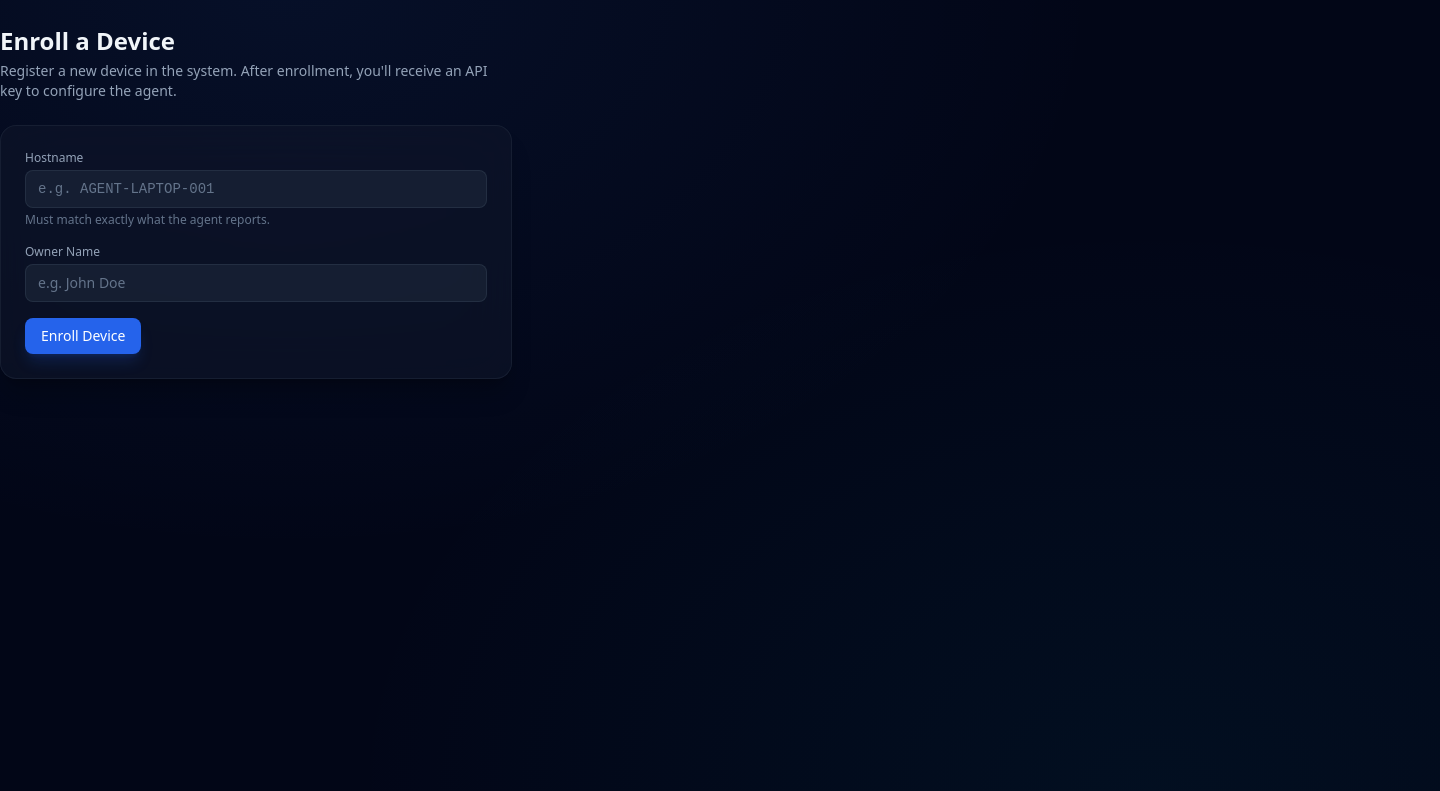
Test: EnrollPage › Enrollment success view › shows one-click installer button (non-serverless)
Type "TEST-LAPTOP-001" into the field with placeholder "e.g. AGENT-LAPTOP-001" at (256, 189), box left=25, top=170, right=487, bottom=208
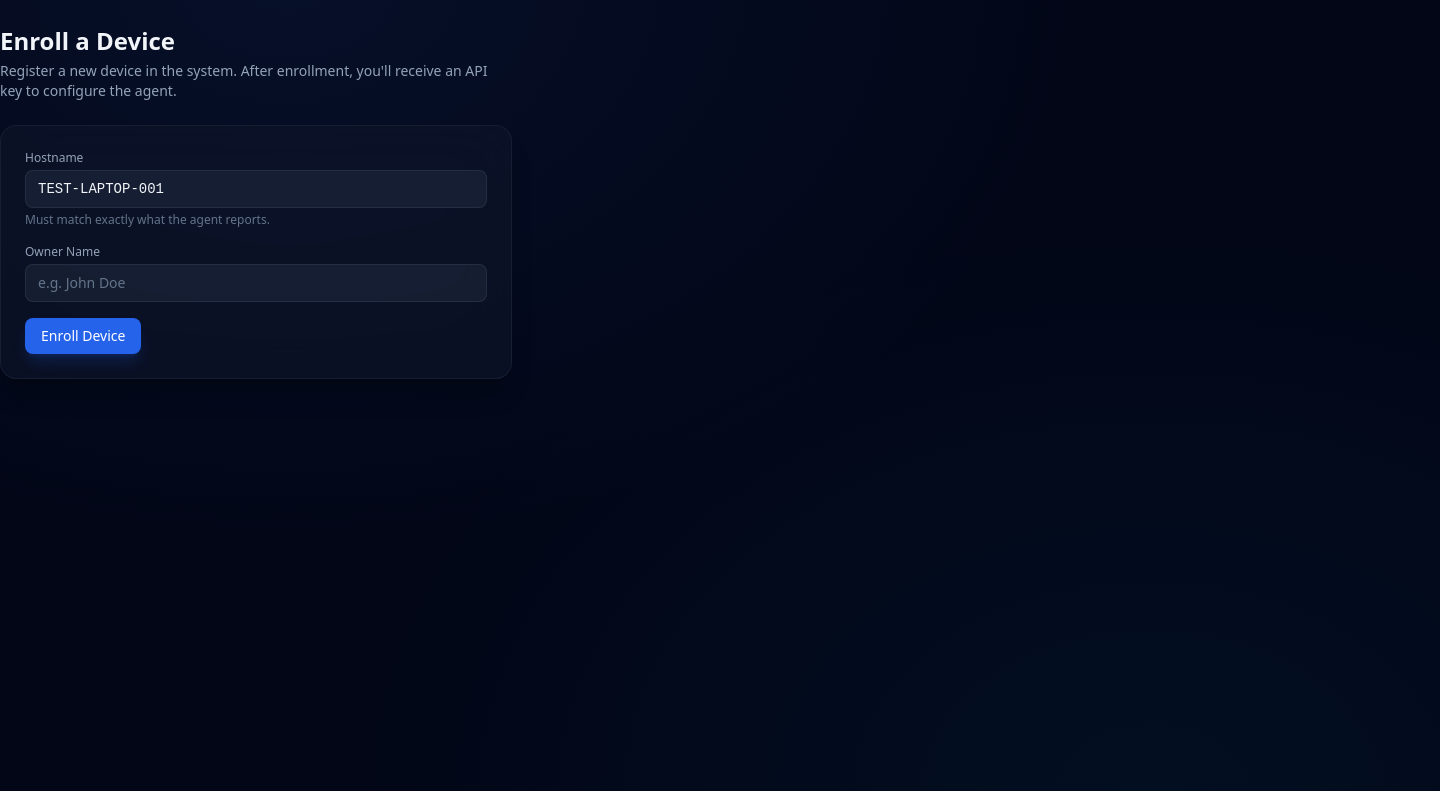
Type "Test Owner" into the field with placeholder "e.g. John Doe" at (256, 283), box left=25, top=264, right=487, bottom=302
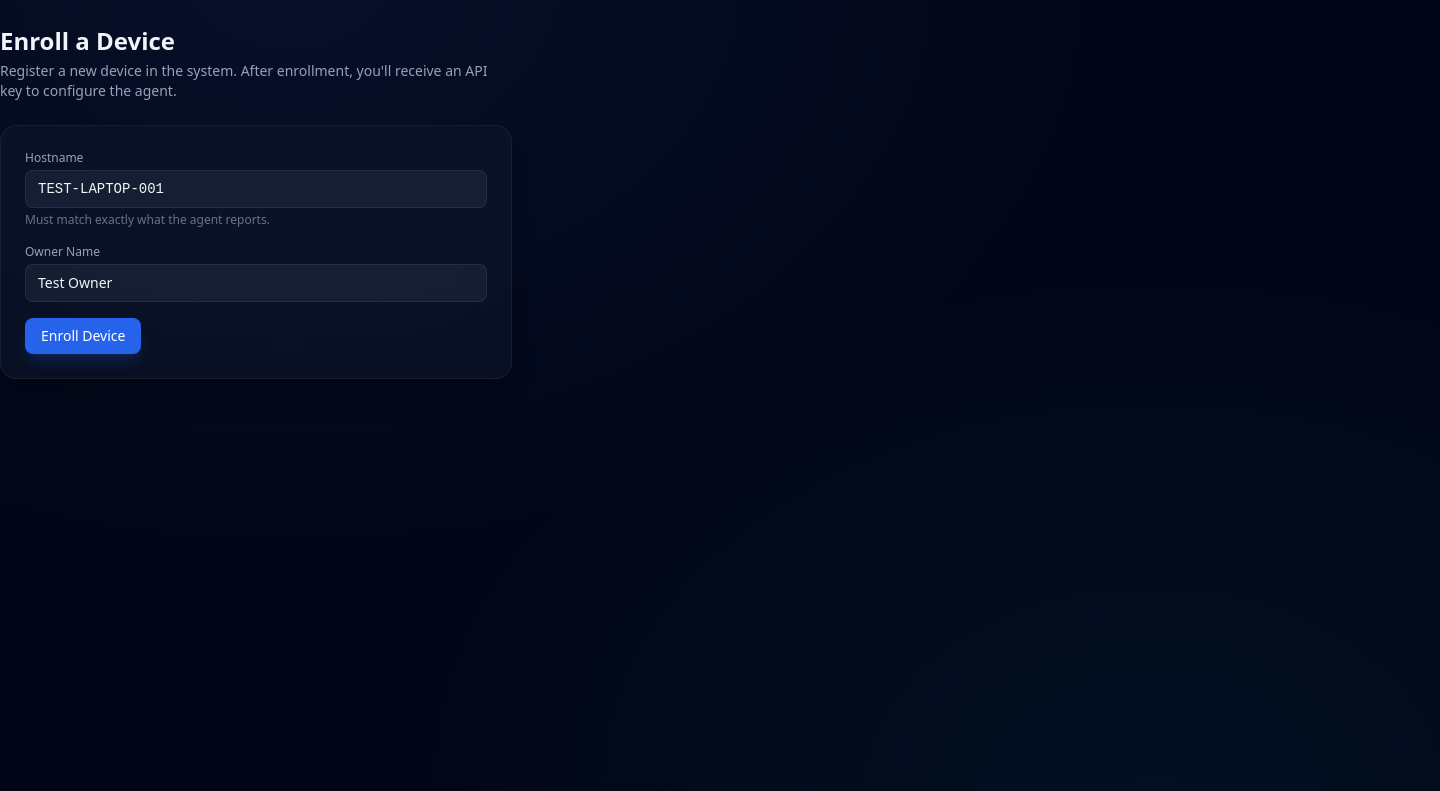
Click the button "Enroll Device" at (83, 336), box left=25, top=318, right=142, bottom=354
(page scrolled)
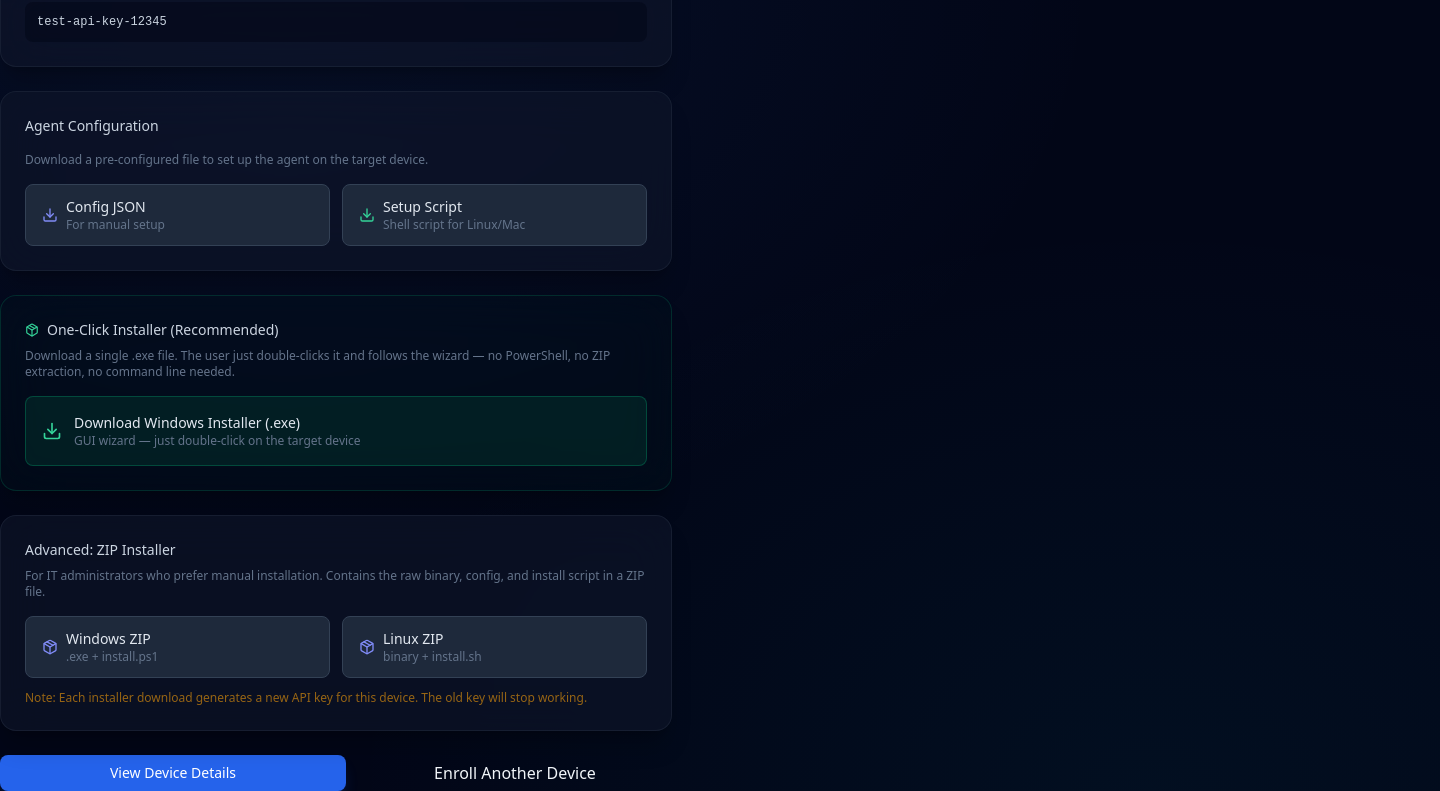
Expected: the text "Download Windows Installer (.exe)" is shown, left=74, top=413, right=300, bottom=432
